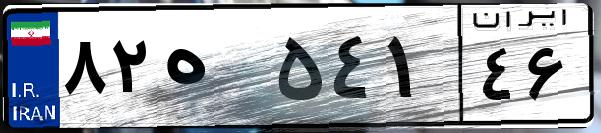1: (385, 28, 445, 110)
2: (110, 28, 158, 98)
4: (330, 28, 385, 110), (475, 38, 525, 113)
5: (270, 28, 330, 110)
6: (525, 38, 570, 115)
8: (57, 26, 110, 100)
ه: (158, 20, 270, 120)
